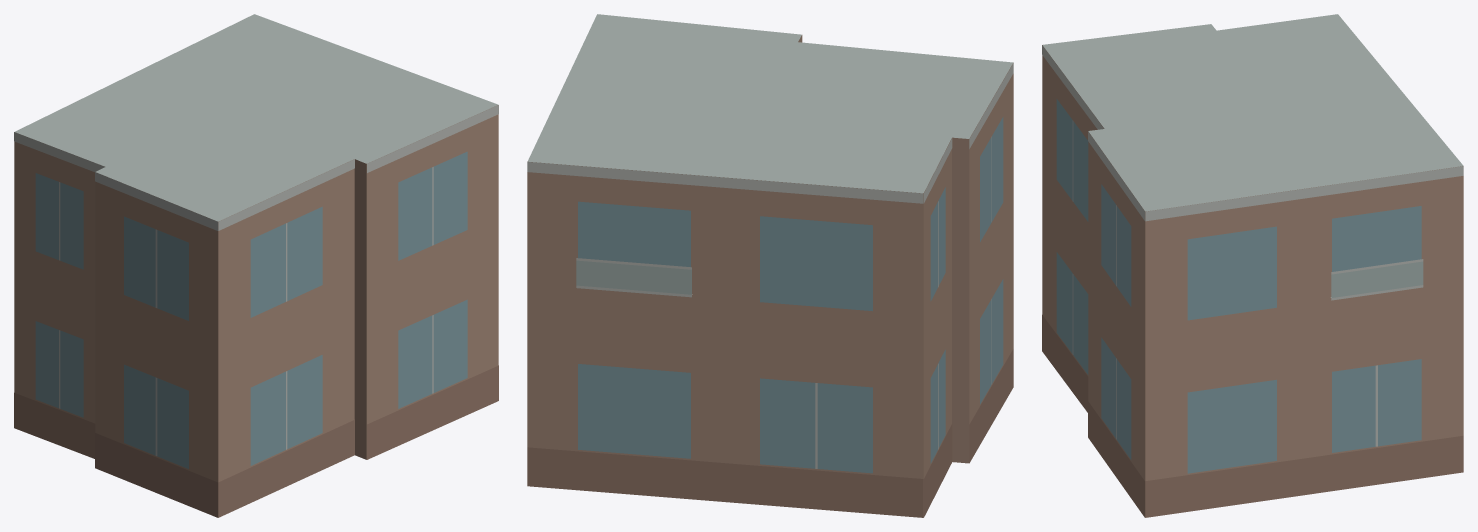
File: survey-upis-32607295.glb
The picture shows the model from 3 angles, left to right: view 1: azimuth 30°, elevation 25°; view 2: azimuth 150°, elevation 25°; view 3: azimuth 270°, elevation 25°; orthographic projection. The views are drawn at different scales.
Parts seen in each view (by area): view 1: survey-upis-32607295.tmp; view 2: survey-upis-32607295.tmp; view 3: survey-upis-32607295.tmp.
Part boxes in pixels (x1,y1,x2,y2): survey-upis-32607295.tmp: [14, 14, 498, 517]; survey-upis-32607295.tmp: [527, 14, 1013, 517]; survey-upis-32607295.tmp: [1042, 14, 1463, 517].
Size of the model in its own units: 10.52 by 7.6 by 9.49.
